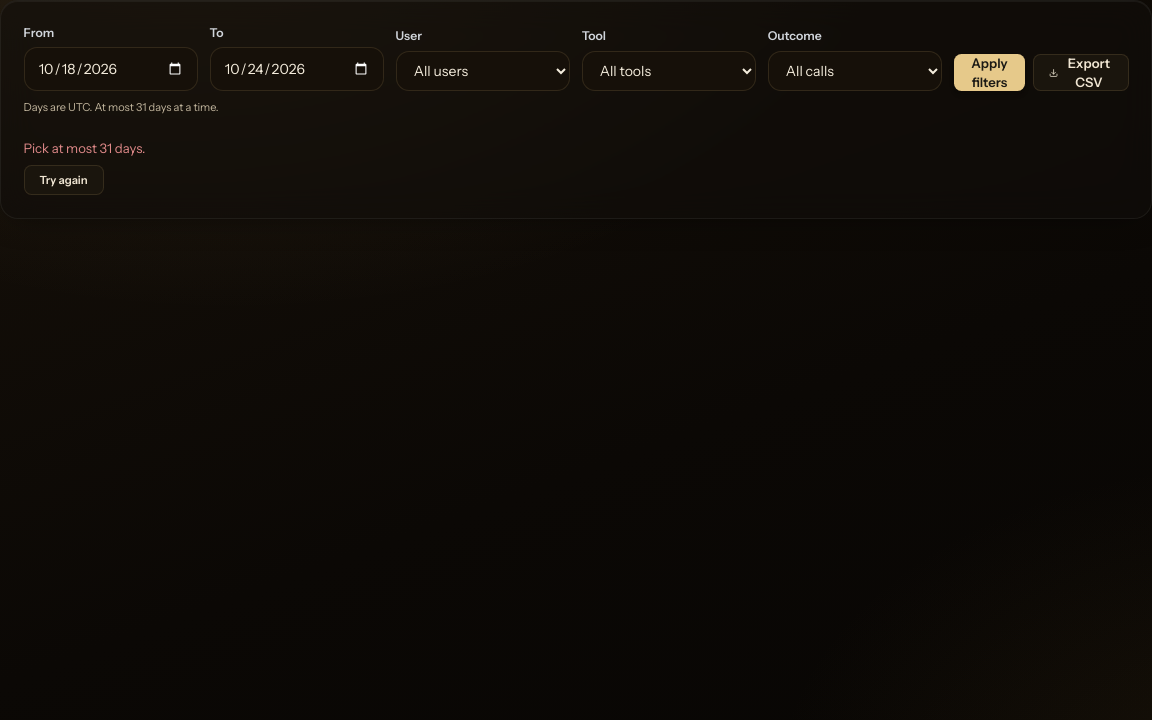
Test: AgentActivityTab › shows the error and the empty state
Expected: the message shows "Pick at most 31 days.", [24, 140, 145, 156]
Click the button "Apply filters" at (989, 73), box [954, 54, 1025, 91]
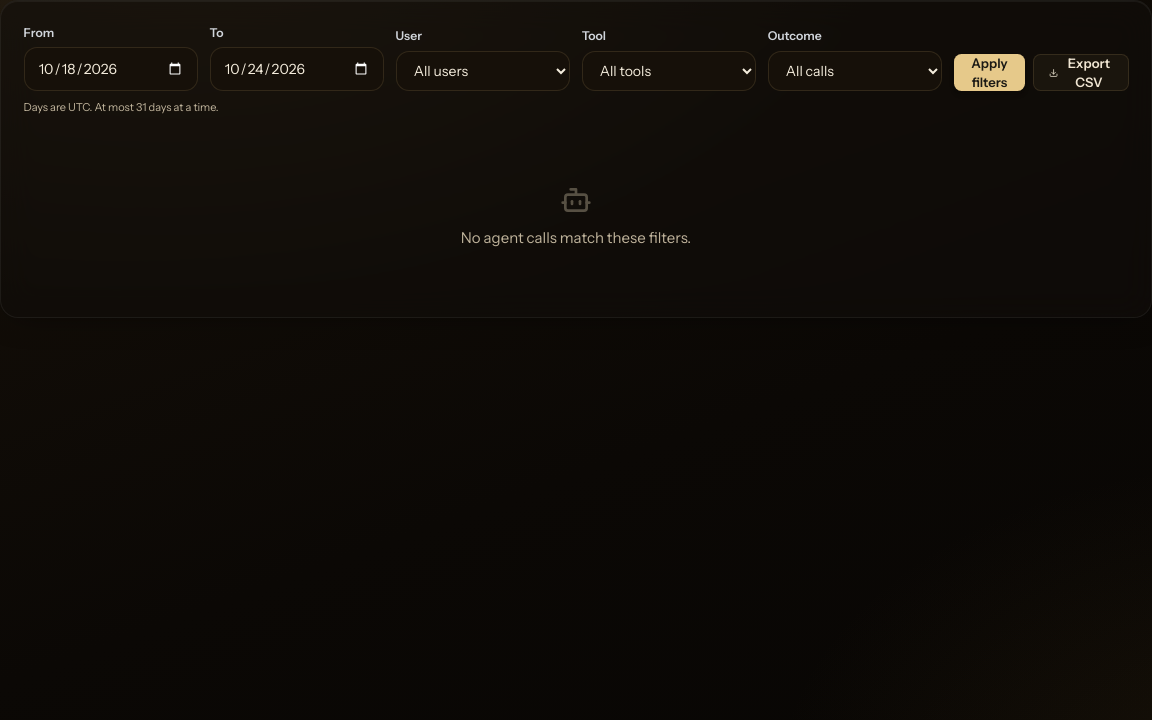
Now the text "No agent calls match these filters." is shown, box [461, 228, 691, 247]
